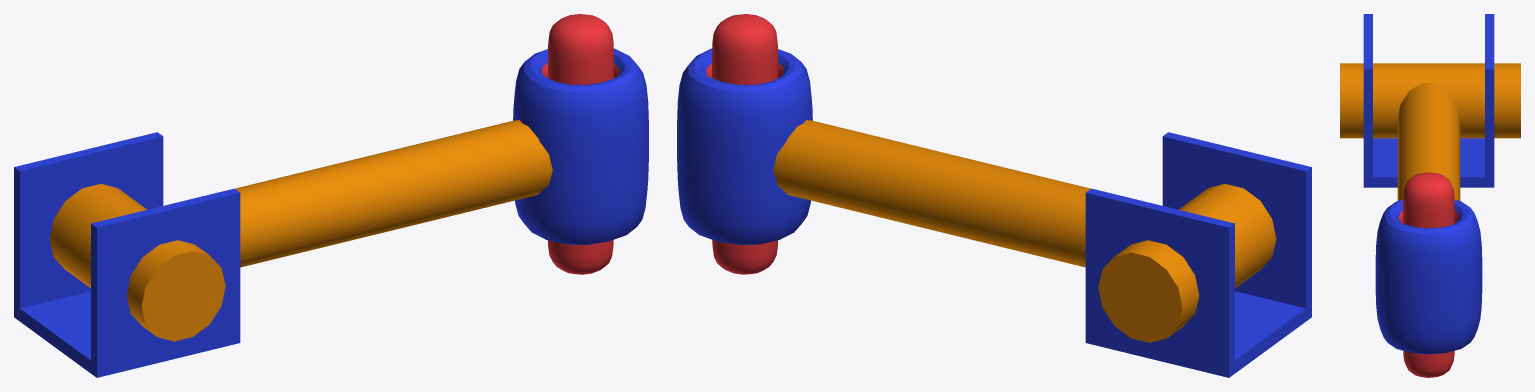
Rendered from engel12.fbx.
3 views of the same model, side by side, from view 1: azimuth 30°, elevation 25°; view 2: azimuth 150°, elevation 25°; view 3: azimuth 270°, elevation 25° (orthographic). The views are drawn at different scales.
Visible parts, largest first — view 1: Cylinder.014, Cube; view 2: Cylinder.014, Cube; view 3: Cylinder.014, Cube.
Part boxes in pixels (x1,y1,x2,y2): Cylinder.014: [49, 14, 648, 341]; Cube: [14, 132, 240, 377]; Cylinder.014: [677, 14, 1276, 342]; Cube: [1085, 132, 1311, 377]; Cylinder.014: [1340, 63, 1520, 377]; Cube: [1363, 14, 1494, 187].
Bounding box in the file's own units: 814 × 333 × 277.
